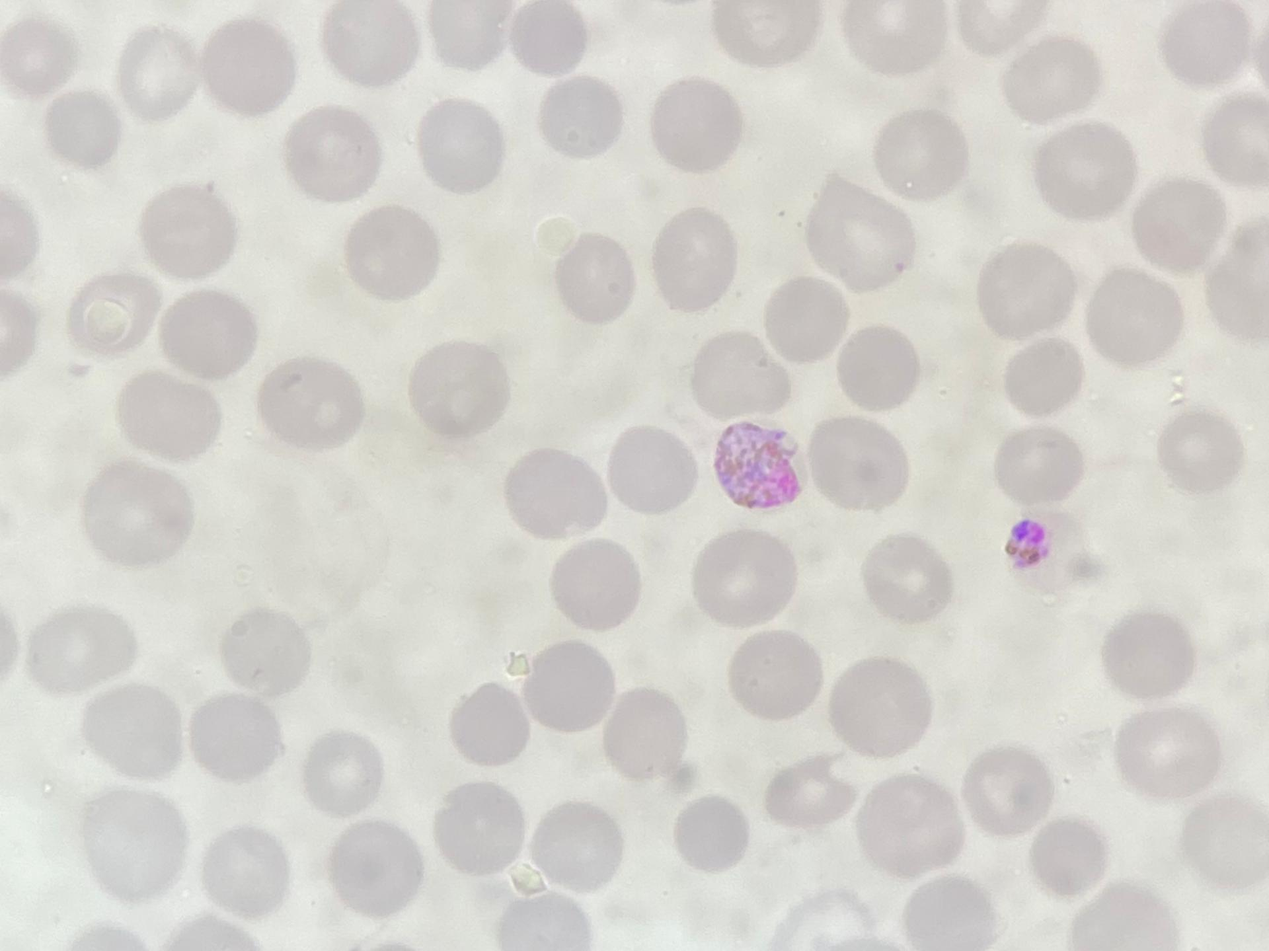Infected: (714, 413, 812, 512)
Uninfected: (804, 177, 916, 290), (79, 786, 188, 899), (80, 459, 192, 566), (854, 774, 963, 876), (691, 529, 798, 627), (256, 355, 365, 451), (406, 341, 510, 441), (827, 656, 932, 755), (79, 681, 184, 779), (114, 367, 223, 461), (1034, 122, 1137, 218), (1083, 266, 1181, 366), (139, 182, 240, 279), (25, 606, 132, 697), (1112, 706, 1217, 796), (343, 204, 441, 300), (977, 243, 1076, 338), (649, 76, 743, 175), (808, 415, 908, 508), (503, 447, 605, 538), (284, 105, 382, 199), (200, 18, 297, 112), (433, 781, 527, 878), (157, 287, 256, 379), (650, 208, 740, 309), (1129, 177, 1224, 272), (520, 640, 617, 733), (327, 818, 420, 915), (725, 629, 824, 720), (186, 692, 284, 782), (547, 537, 642, 629), (872, 107, 968, 198), (689, 330, 788, 417), (959, 746, 1053, 837), (200, 825, 290, 919), (1100, 611, 1195, 700), (1003, 37, 1100, 124), (219, 607, 312, 697), (416, 98, 506, 190), (529, 802, 621, 892), (606, 425, 697, 515), (1178, 792, 1269, 882), (861, 535, 952, 622), (601, 689, 688, 780), (66, 272, 159, 356), (323, 3, 418, 85), (537, 73, 624, 162), (762, 274, 849, 362), (835, 324, 923, 410), (1154, 407, 1243, 492), (118, 27, 201, 118), (553, 233, 637, 321), (1160, 1, 1250, 83), (843, 2, 944, 75), (993, 424, 1085, 504), (1070, 882, 1178, 948), (712, 1, 818, 67), (448, 683, 531, 767), (1205, 230, 1268, 340), (900, 874, 993, 948), (302, 732, 385, 814), (764, 756, 857, 829), (1000, 336, 1085, 414), (770, 888, 878, 948), (1028, 818, 1108, 897), (44, 90, 122, 170), (1200, 95, 1269, 184), (507, 2, 590, 74), (427, 1, 512, 70), (673, 796, 750, 872), (1, 17, 74, 95), (496, 891, 587, 950), (958, 1, 1048, 56)
